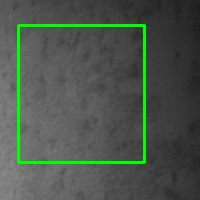pitted_surface: (18, 25, 144, 162)
